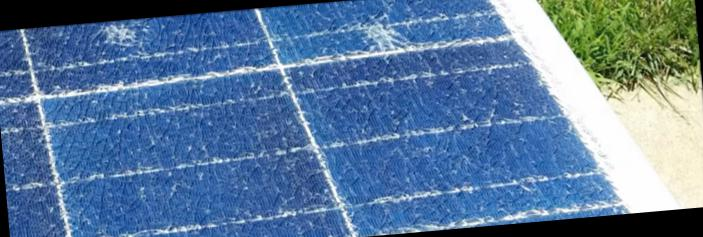Crack: (341, 8, 422, 64), (81, 18, 159, 63)
